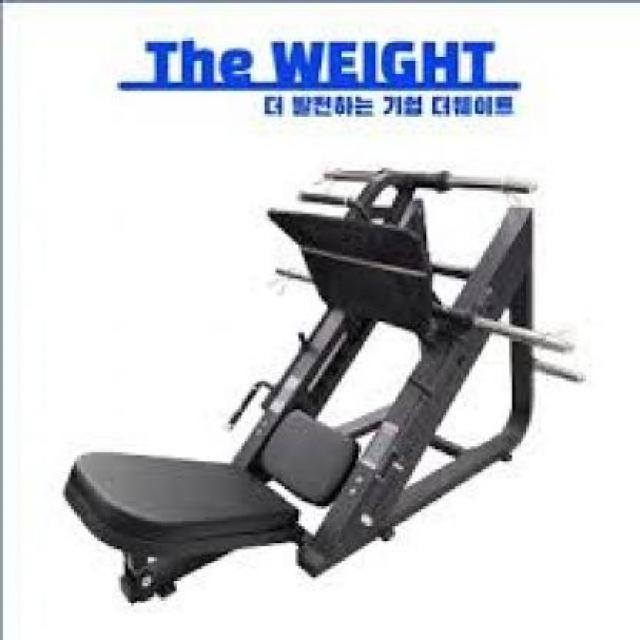leg press: (56, 150, 586, 632)
